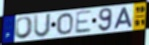9: (97, 7, 114, 32)
A: (113, 7, 134, 30)
E: (74, 9, 93, 35)
O: (13, 16, 35, 40), (56, 13, 74, 36)
U: (33, 12, 53, 39)
